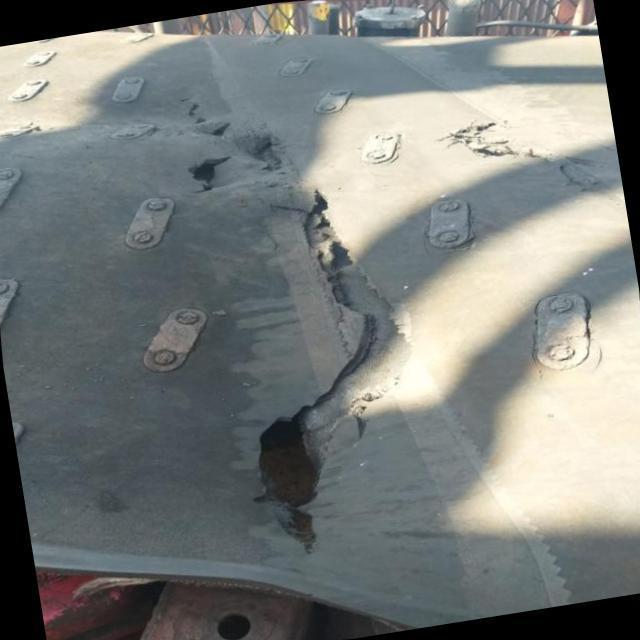Tear: (168, 75, 418, 563), (430, 102, 623, 212)
